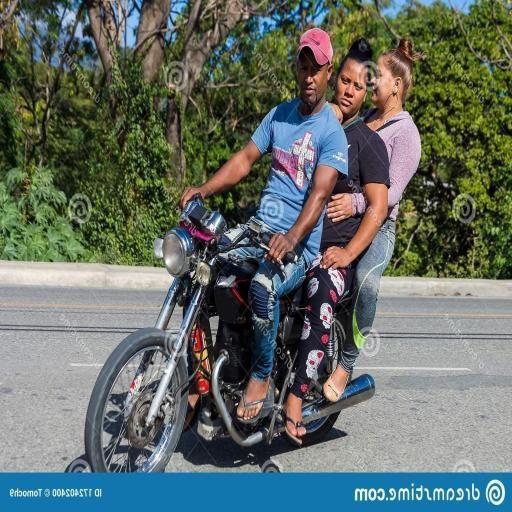no helmet: (283, 27, 338, 161)
triple riding: (92, 34, 414, 466)
